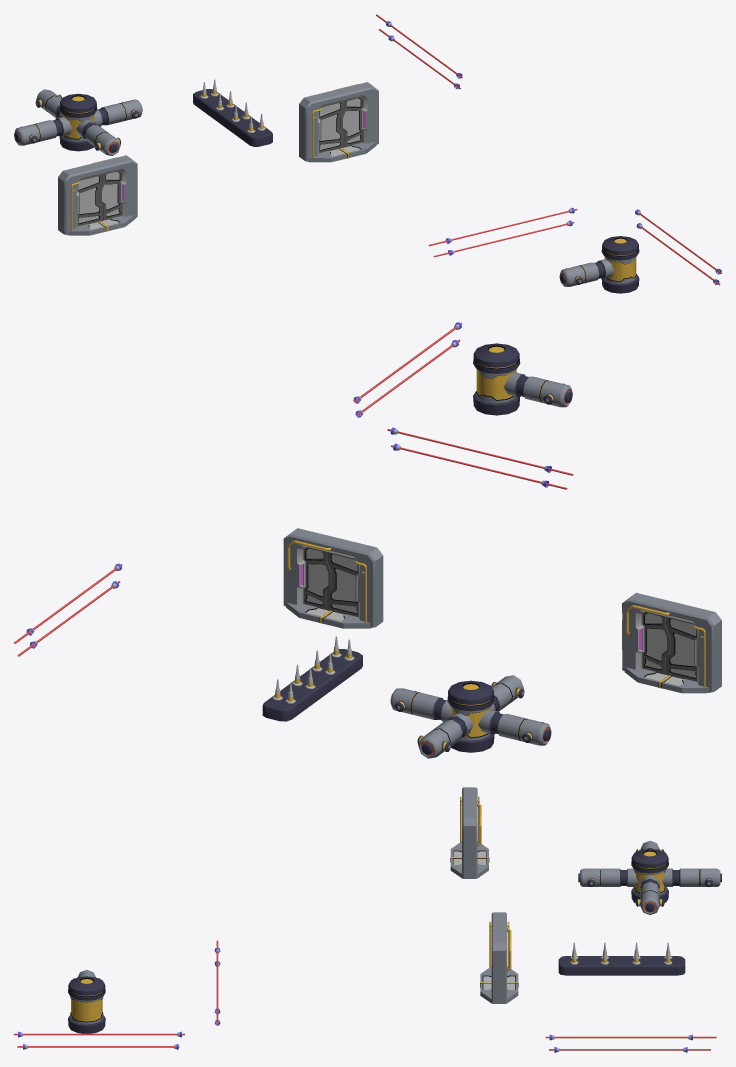
3 views of the same model, one above another, from view 1: azimuth 30°, elevation 25°; view 2: azimuth 150°, elevation 25°; view 3: azimuth 270°, elevation 25° (orthographic). The views are drawn at different scales.
Visible parts, largest first — view 1: Base (×3), pCylinder14 (×5), pCylinder13 (×2), Right (×2), Left (×2), Base5 (×2); view 2: Base (×3), pCylinder14 (×5), pCylinder13 (×2), Right (×2), Left (×2), Base5 (×2); view 3: Base (×3), pCylinder13 (×2), pCylinder14 (×3), Base5 (×2), Laser (×2).
Part boxes in pixels (left/top/right/bottom): Base (×3): left=58, top=82, right=378, bottom=234; pCylinder14 (×5): left=14, top=89, right=614, bottom=286; pCylinder13 (×2): left=59, top=93, right=639, bottom=293; Right (×2): left=77, top=101, right=344, bottom=226; Left (×2): left=99, top=97, right=362, bottom=220; Base5 (×2): left=67, top=141, right=376, bottom=235; Base (×3): left=262, top=528, right=721, bottom=721; pCylinder14 (×5): left=390, top=372, right=572, bottom=758; pCylinder13 (×2): left=447, top=343, right=520, bottom=752; Right (×2): left=326, top=552, right=697, bottom=681; Left (×2): left=303, top=547, right=670, bottom=674; Base5 (×2): left=286, top=602, right=710, bottom=693; Base (×3): left=462, top=787, right=685, bottom=1003; pCylinder13 (×2): left=68, top=849, right=668, bottom=1033; pCylinder14 (×3): left=578, top=868, right=721, bottom=914; Base5 (×2): left=450, top=841, right=518, bottom=1003; Laser (×2): left=14, top=1033, right=716, bottom=1038.
Size of the model in its own units: 328 by 45.46 by 454.
